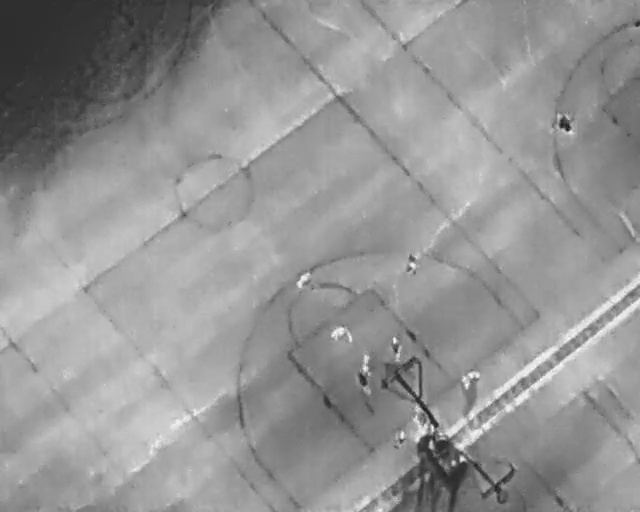Person: (329, 321, 352, 347), (357, 355, 371, 392), (462, 367, 481, 393), (558, 109, 572, 135), (407, 250, 420, 275), (391, 335, 402, 361), (297, 271, 312, 290)
